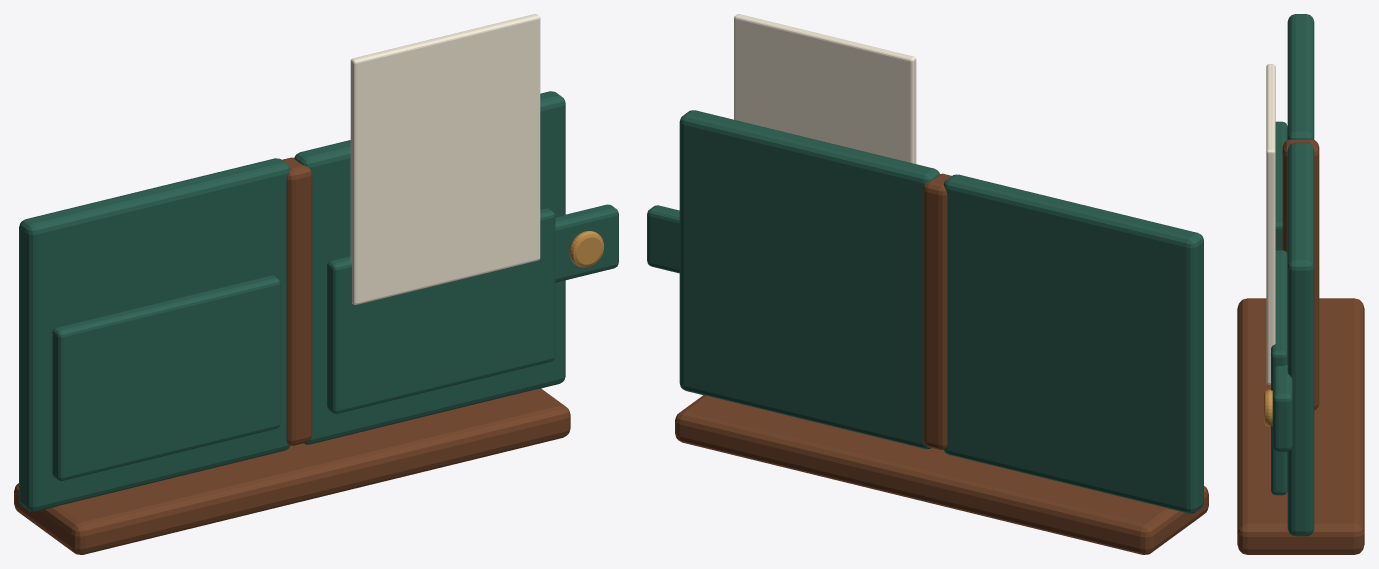
The model's file is hybrid-balance-wallet-open.glb.
The picture shows the model from 3 angles, left to right: view 1: azimuth 30°, elevation 25°; view 2: azimuth 150°, elevation 25°; view 3: azimuth 270°, elevation 25°; orthographic projection. The views are drawn at different scales.
Visible parts, largest first — view 1: Blank ivory balance card, Left wallet panel, Left leather pocket, Walnut wallet dock, Right leather pocket, Right wallet panel, Walnut wallet hinge, Open clasp strap, Open brass snap; view 2: Left wallet panel, Right wallet panel, Walnut wallet dock, Blank ivory balance card, Walnut wallet hinge, Open clasp strap; view 3: Walnut wallet dock, Right wallet panel, Left wallet panel, Blank ivory balance card, Right leather pocket, Walnut wallet hinge, Open clasp strap, Left leather pocket, Open brass snap.
Boxes of the visible parts, box(x1,y1,x2,y2) form: Blank ivory balance card: box(350, 14, 540, 304); Left wallet panel: box(19, 158, 290, 511); Left leather pocket: box(52, 275, 280, 480); Walnut wallet dock: box(14, 388, 570, 554); Right leather pocket: box(327, 208, 555, 413); Right wallet panel: box(294, 91, 565, 444); Walnut wallet hinge: box(282, 157, 312, 445); Open clasp strap: box(555, 204, 618, 282); Open brass snap: box(569, 231, 604, 267); Left wallet panel: box(943, 174, 1203, 513); Right wallet panel: box(679, 110, 939, 449); Walnut wallet dock: box(675, 395, 1208, 554); Blank ivory balance card: box(734, 14, 916, 163); Walnut wallet hinge: box(922, 173, 951, 449); Open clasp strap: box(647, 205, 679, 273); Walnut wallet dock: box(1237, 298, 1364, 554); Right wallet panel: box(1287, 142, 1314, 536); Left wallet panel: box(1287, 14, 1314, 139); Blank ivory balance card: box(1266, 64, 1275, 384); Right leather pocket: box(1271, 250, 1287, 495); Walnut wallet hinge: box(1282, 139, 1319, 410); Open clasp strap: box(1272, 365, 1292, 451); Left leather pocket: box(1275, 121, 1287, 250); Open brass snap: box(1264, 389, 1272, 426).
Size of the model in its own units: 3.87 by 2.63 by 0.76.
